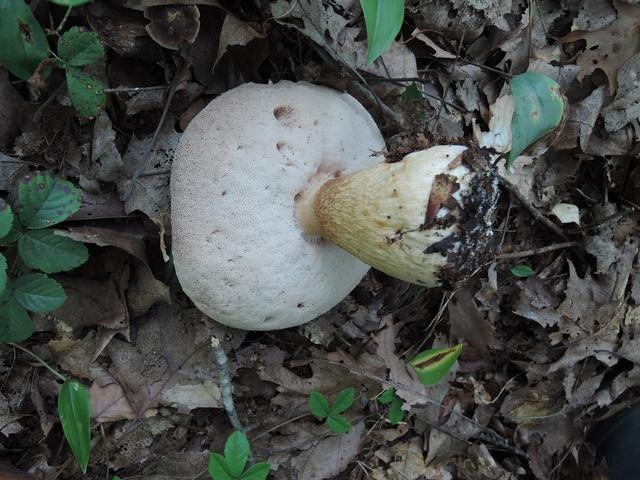Non-edible Mushroom: (167, 77, 503, 332)
